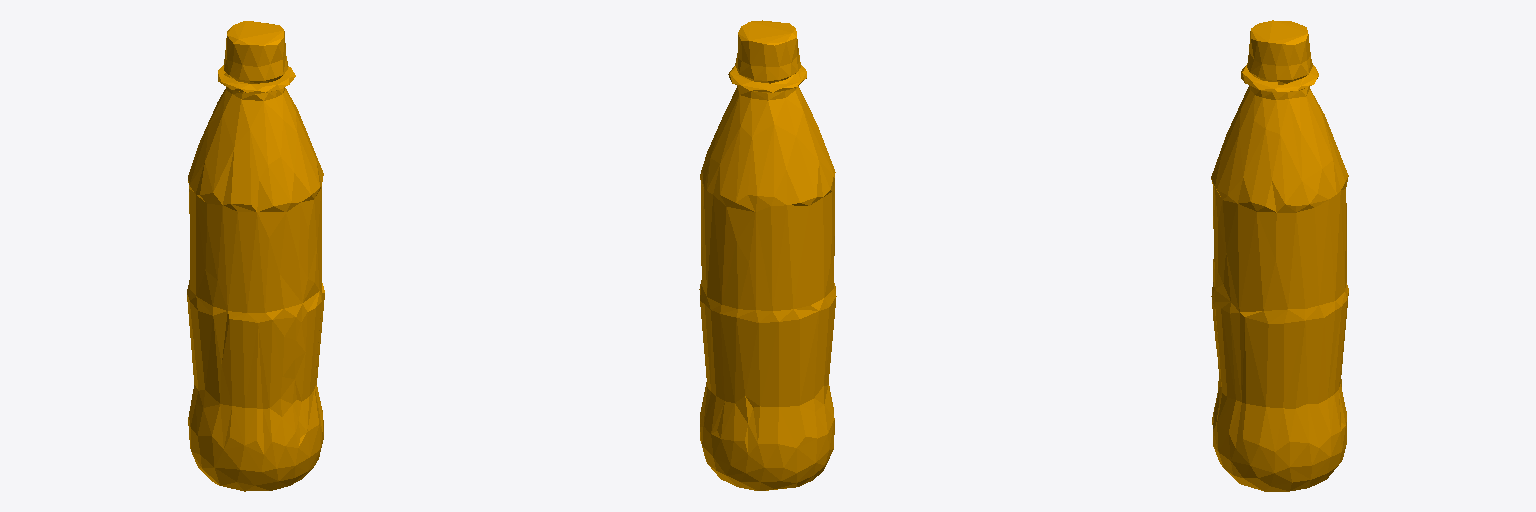
The robot description file, URDF, robot "CokePlasticSmall_800_tex":
<?xml version="1.0"?>
<robot name="CokePlasticSmall_800_tex">
  <link name="base_link">
    <contact>
      <lateral_friction value="1.0"/>
      <rolling_friction value="0.0"/>
      <contact_cfm value="0.0"/>
      <contact_erp value="1.0"/>
    </contact>
    <inertial>
      <mass value="0.127713055754"/>
      <inertia ixx="1" ixy="0" ixz="0" iyy="1" iyz="0" izz="1"/>
    </inertial>
    <visual>
      <geometry>
        <mesh filename="CokePlasticSmall_800_tex_visual.obj"/>
      </geometry>
    </visual>
    <collision>
      <geometry>
        <mesh filename="CokePlasticSmall_800_tex_collision.obj"/>
      </geometry>
    </collision>
  </link>
</robot>

--- What the picture shows (computed from the rendered views, not written in the file) ---
The picture shows the robot from 3 angles, left to right: view 1: azimuth 30°, elevation 25°; view 2: azimuth 150°, elevation 25°; view 3: azimuth 270°, elevation 25°; orthographic projection.
Robot: CokePlasticSmall_800_tex — 1 links, 0 joints (none); root link base_link; default pose: all joints at 0.
Links seen in each view (by area): view 1: base_link; view 2: base_link; view 3: base_link.
Boxes of the visible links, x1,y1,x2,y2 form: base_link: [187, 21, 324, 491]; base_link: [699, 20, 836, 490]; base_link: [1211, 20, 1348, 491].
Bounding box of the posed robot: 0.0675 × 0.0675 × 0.2375 m (x, y, z).
Meshes: 1 distinct files referenced, 1 mesh visuals loaded (1 OBJ).